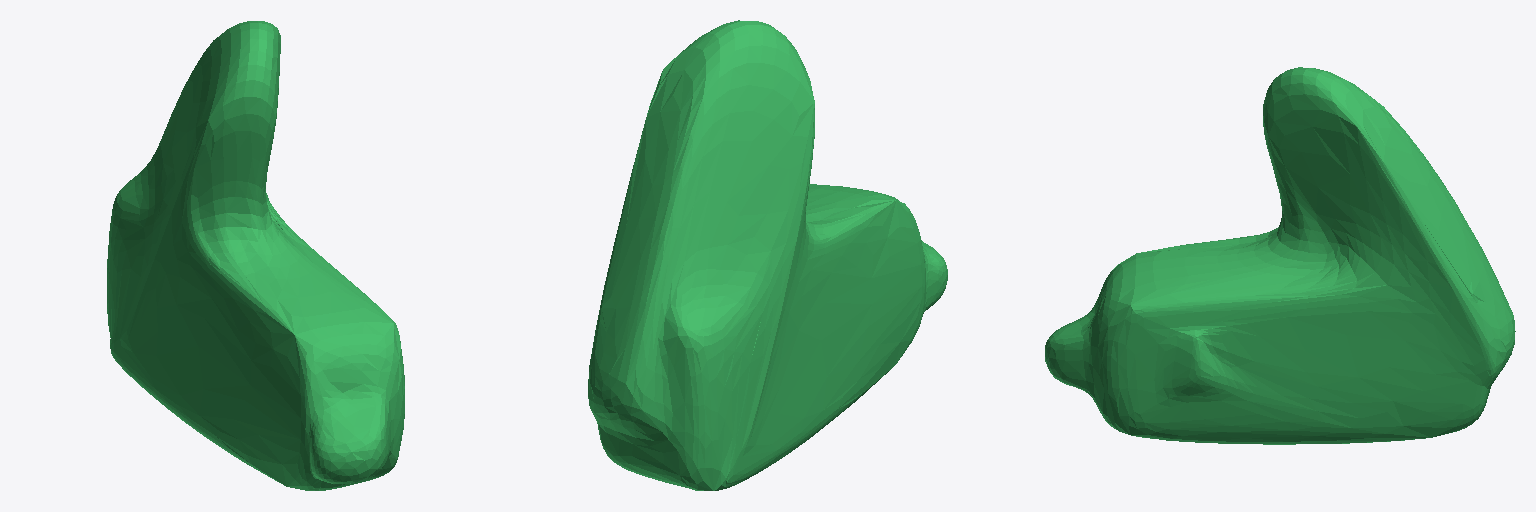
The robot description file, URDF, robot "blob478":

<robot name="blob478">
  <link name="random_obj_478">
    <contact>
      <lateral_friction value="1.0"/>
      <rolling_friction value="0.0"/>
      <inertia_scaling value="3.0"/>
      <contact_cfm value="0.0"/>
      <contact_erp value="1.0"/>
    </contact>
    <inertial>
      <origin rpy="0 0 0" xyz="0 0 0"/>
      <mass value="0.1071"/>
      <inertia ixx="1" ixy="0" ixz="0" iyy="1" iyz="0" izz="0"/>
    </inertial>
    <visual>
      <origin rpy="0 0 0" xyz="0 0 0"/>
      <geometry>
        <mesh filename="478.obj" scale="0.0070 0.0070 0.0070"/>
      </geometry>
      <material name="blockmat">
        <color rgba="0.30 0.75 0.44 1"/>
      </material>
    </visual>
    <collision>
      <origin rpy="0 0 0" xyz="0 0 0"/>
      <geometry>
        <mesh filename="478_coll.obj" scale="0.0070 0.0070 0.0070"/>
      </geometry>
    </collision>
  </link>
</robot>

--- Facts derived from the render (not from the file) ---
Views: 3 orthographic renders of the robot side by side, from view 1: azimuth 30°, elevation 25°; view 2: azimuth 150°, elevation 25°; view 3: azimuth 270°, elevation 25°.
Model blob478 with 1 links and 0 joints (none), rooted at random_obj_478, posed all joints at 0.
Links seen in each view (by area): view 1: random_obj_478; view 2: random_obj_478; view 3: random_obj_478.
Boxes of the visible links, bbox=[...] form: random_obj_478: bbox=[107, 21, 404, 490]; random_obj_478: bbox=[588, 20, 947, 490]; random_obj_478: bbox=[1045, 67, 1515, 444].
Bounding box of the posed robot: 0.0297 × 0.0999 × 0.0865 m (x, y, z).
Meshes: 1 distinct files referenced, 1 mesh visuals loaded (1 OBJ).
